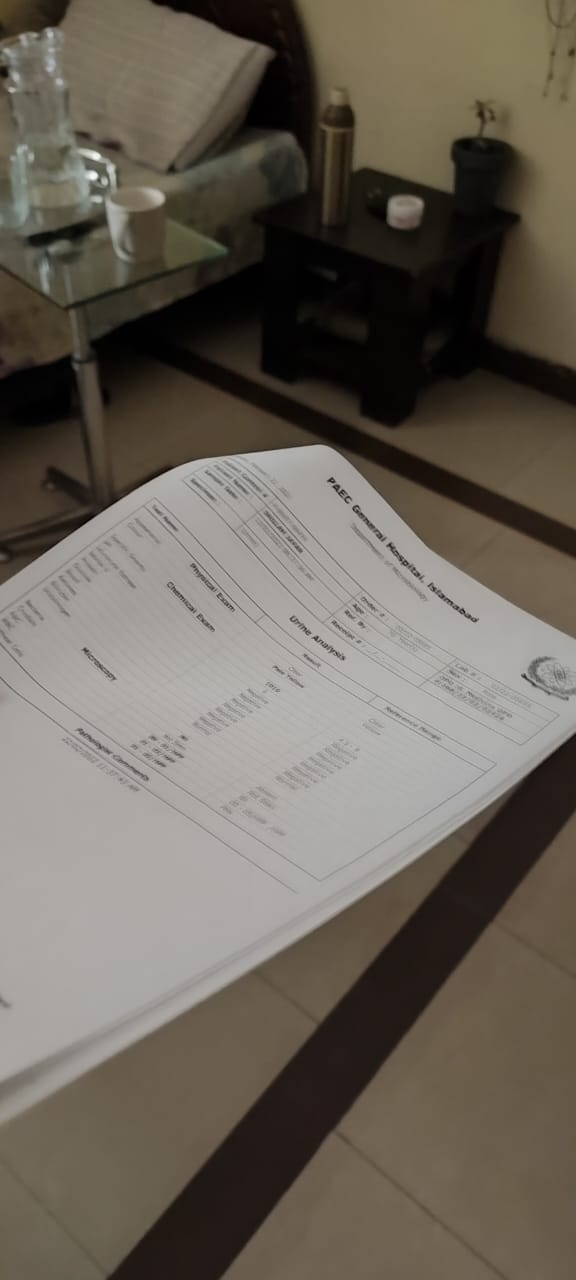report: (1, 498, 498, 883)
